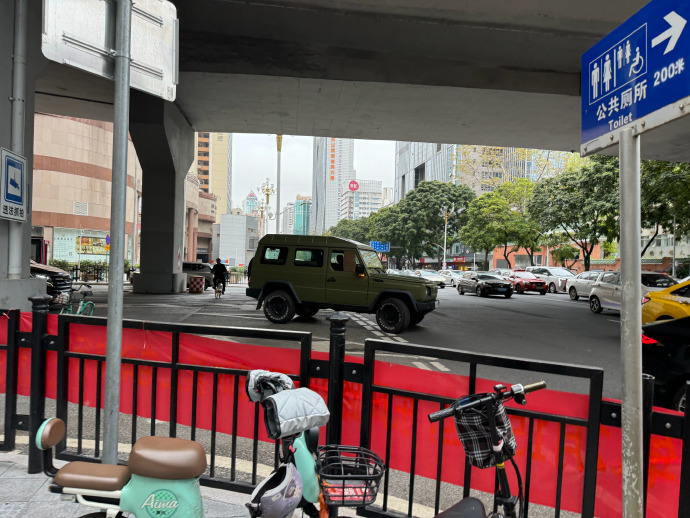other: (243, 229, 443, 334), (453, 268, 514, 302), (506, 270, 551, 297)
